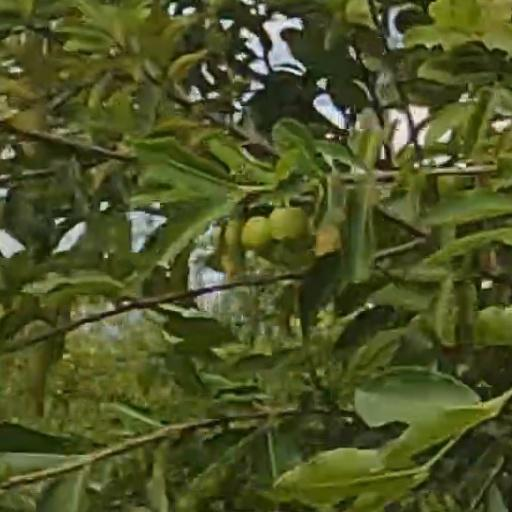acerola_verde: (272, 210, 305, 239), (243, 219, 268, 244)
